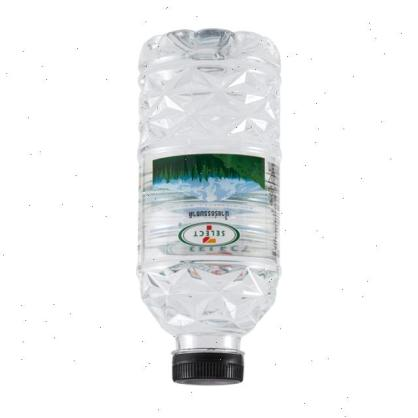bottle: (138, 30, 284, 388)
cap: (171, 349, 246, 386)
label: (143, 151, 280, 269)
